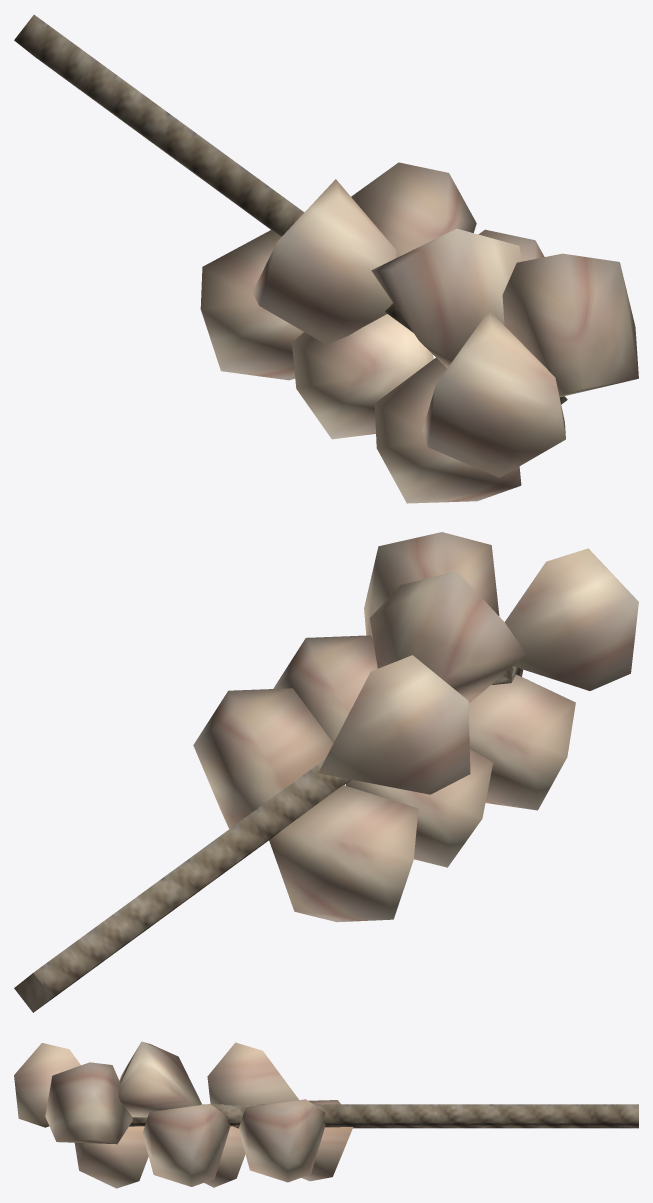
File: Garlic_Hanged_A.fbx
The picture shows the model from 3 angles, top to bottom: view 1: azimuth 30°, elevation 25°; view 2: azimuth 150°, elevation 25°; view 3: azimuth 270°, elevation 25°; orthographic projection. The views are drawn at different scales.
Visible parts, largest first — view 1: Garlic_Hanged_A; view 2: Garlic_Hanged_A; view 3: Garlic_Hanged_A.
Boxes of the visible parts, bbox=[...] form: Garlic_Hanged_A: bbox=[14, 14, 638, 503]; Garlic_Hanged_A: bbox=[14, 532, 638, 1012]; Garlic_Hanged_A: bbox=[14, 1041, 638, 1188].
Bounding box in the file's own units: 0.3018 × 0.289 × 1.11.
